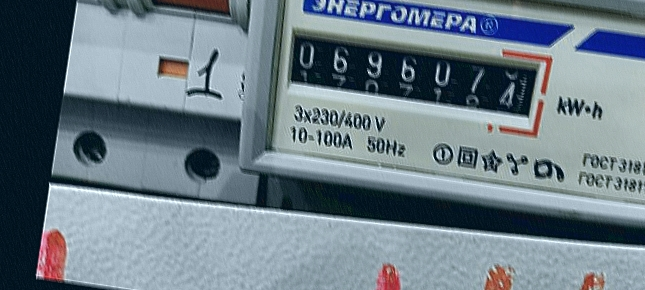0: (294, 38, 317, 70), (429, 57, 452, 87)
4: (495, 79, 516, 109)
6: (396, 52, 418, 83), (328, 44, 350, 73)
7: (463, 62, 487, 95)
9: (361, 49, 383, 79)
screen: (268, 12, 557, 139)
